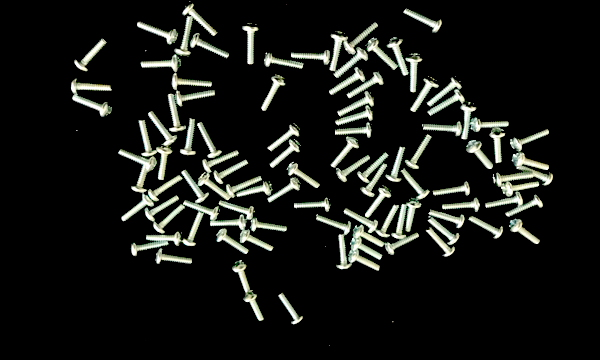shortscrew: (182, 0, 220, 37), (73, 37, 112, 73), (403, 5, 448, 34), (343, 21, 380, 56), (334, 46, 370, 80), (427, 75, 464, 108), (148, 112, 179, 148), (190, 33, 231, 60), (328, 67, 366, 96), (347, 71, 385, 100), (510, 127, 552, 153), (366, 38, 399, 71), (153, 203, 187, 235), (181, 168, 211, 204), (71, 94, 114, 119), (137, 21, 180, 46), (411, 76, 440, 113), (329, 136, 360, 170), (267, 121, 301, 152), (428, 90, 467, 117), (427, 217, 462, 247), (148, 174, 184, 203), (505, 194, 545, 220), (405, 133, 433, 170), (338, 91, 376, 118), (269, 139, 303, 169), (287, 161, 323, 189), (118, 147, 158, 172), (426, 226, 457, 258), (401, 168, 431, 201), (261, 74, 287, 112), (143, 196, 181, 222), (119, 195, 154, 223), (267, 177, 303, 204), (215, 228, 251, 255), (213, 159, 250, 185), (510, 218, 543, 247), (202, 150, 240, 175), (386, 37, 409, 78), (468, 215, 505, 240), (343, 209, 380, 234), (365, 187, 393, 220), (327, 31, 349, 72), (466, 140, 495, 171), (384, 233, 421, 257), (227, 175, 264, 199), (198, 122, 222, 159), (279, 293, 305, 327), (239, 229, 277, 252), (130, 158, 154, 194), (517, 164, 554, 187), (376, 205, 401, 239), (350, 235, 384, 260), (175, 16, 195, 58), (167, 93, 188, 133), (198, 173, 229, 200), (385, 146, 407, 184), (184, 199, 222, 221), (316, 214, 352, 237), (175, 88, 216, 108), (405, 53, 425, 94), (337, 106, 376, 127), (242, 22, 261, 65), (493, 169, 535, 188), (353, 224, 386, 248), (348, 249, 382, 272), (264, 52, 305, 71), (511, 152, 552, 171), (422, 119, 463, 138), (429, 208, 466, 229), (484, 192, 524, 211), (171, 74, 213, 92), (219, 200, 255, 221), (70, 78, 114, 95), (139, 55, 183, 72), (501, 179, 540, 198), (460, 101, 479, 140), (130, 240, 169, 259), (335, 122, 374, 141), (180, 119, 199, 158), (232, 260, 255, 292), (183, 212, 204, 247), (294, 195, 332, 214), (138, 120, 157, 158), (292, 49, 331, 67), (250, 216, 289, 234), (470, 117, 511, 134), (442, 196, 480, 214), (433, 179, 471, 197), (154, 248, 192, 266), (243, 291, 265, 322), (404, 199, 423, 234), (156, 146, 175, 181), (335, 234, 352, 272), (235, 181, 273, 198), (489, 129, 507, 164), (146, 231, 184, 247), (392, 204, 408, 241), (210, 215, 247, 231)
